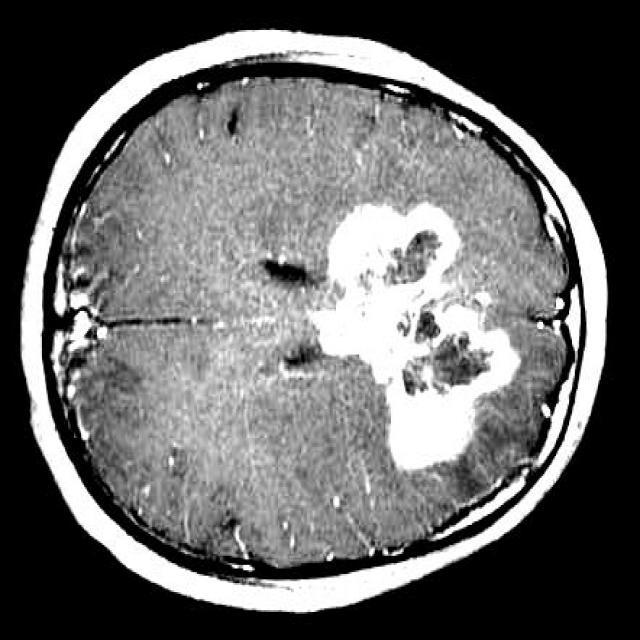tumor: (265, 201, 523, 470)
